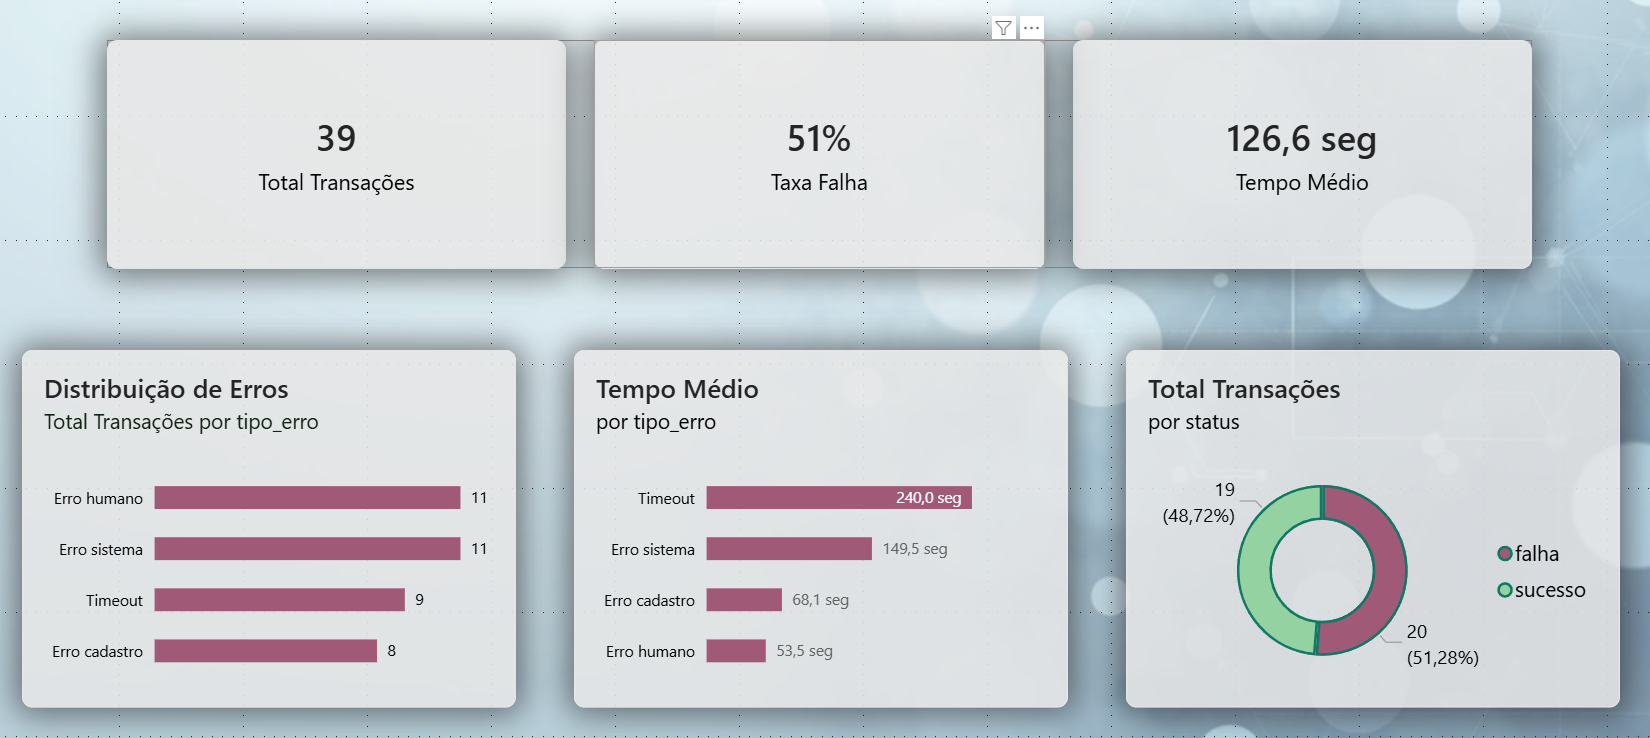

Layout of this report page (visuals, bound fields, positions):
{"tool":"powerbi","page":{"name":"Página 1","canvas":[1280,720],"ordinal":0},"visuals":[{"type":"card","fields":{"Values":["Tipos_de_erro.Total Transações"]},"box":[86,36.7,352.8,175.5],"z":0,"group":"g1"},{"type":"clusteredBarChart","title":"Distribuição de Erros","fields":{"Category":["Tipos_de_erro.tipo_erro"],"Y":["Tipos_de_erro.Total Transações"]},"box":[20.6,275,380,275],"z":0},{"type":"card","fields":{"Values":["Tipos_de_erro.Tempo Médio"]},"box":[829.3,36.7,352.8,175.5],"z":1000,"group":"g1"},{"type":"clusteredBarChart","fields":{"Category":["Tipos_de_erro.tipo_erro"],"Y":["Tipos_de_erro.Tempo Médio"]},"box":[445,275,380,275],"z":1000},{"type":"card","fields":{"Values":["Tipos_de_erro.Taxa Falha"]},"box":[460.8,36.7,346.6,175.5],"z":2000,"group":"g1"},{"type":"donutChart","fields":{"Category":["Tipos_de_erro.status"],"Y":["Tipos_de_erro.Total Transações"]},"box":[870,275,380,275],"z":2000},{"type":"group","id":"g1","title":"Grupo 1","box":[86,36.7,1096.1,175.5],"z":3000}]}

Visuals, with their boxes on the page's 1280x720 design canvas (x1, y1, x2, y2). These are canvas units, not pixel positions in the 1650x738 screenshot, which may show the page scaled, cropped or inside an application window:
card - Tipos_de_erro.Total Transações: rect(86, 37, 439, 212)
"Distribuição de Erros" clusteredBarChart: rect(21, 275, 401, 550)
card - Tipos_de_erro.Tempo Médio: rect(829, 37, 1182, 212)
clusteredBarChart - Tipos_de_erro.tipo_erro x Tipos_de_erro.Tempo Médio: rect(445, 275, 825, 550)
card - Tipos_de_erro.Taxa Falha: rect(461, 37, 807, 212)
donutChart - Tipos_de_erro.status x Tipos_de_erro.Total Transações: rect(870, 275, 1250, 550)
"Grupo 1" group: rect(86, 37, 1182, 212)
